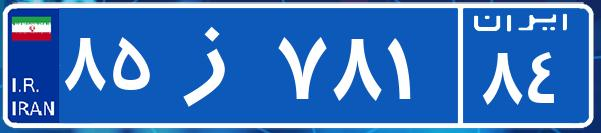1: (385, 28, 445, 110)
4: (525, 38, 570, 115)
5: (110, 28, 158, 105)
7: (273, 28, 330, 110)
8: (330, 28, 385, 110), (57, 26, 110, 107), (475, 38, 525, 113)
ز: (158, 15, 273, 115)
